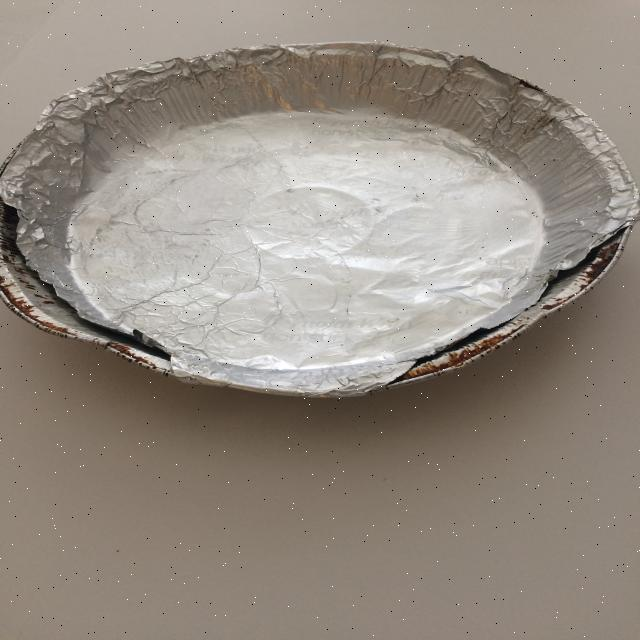metal: (1, 41, 638, 398)
